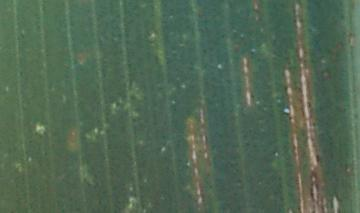tarspot: (314, 153, 322, 168)
